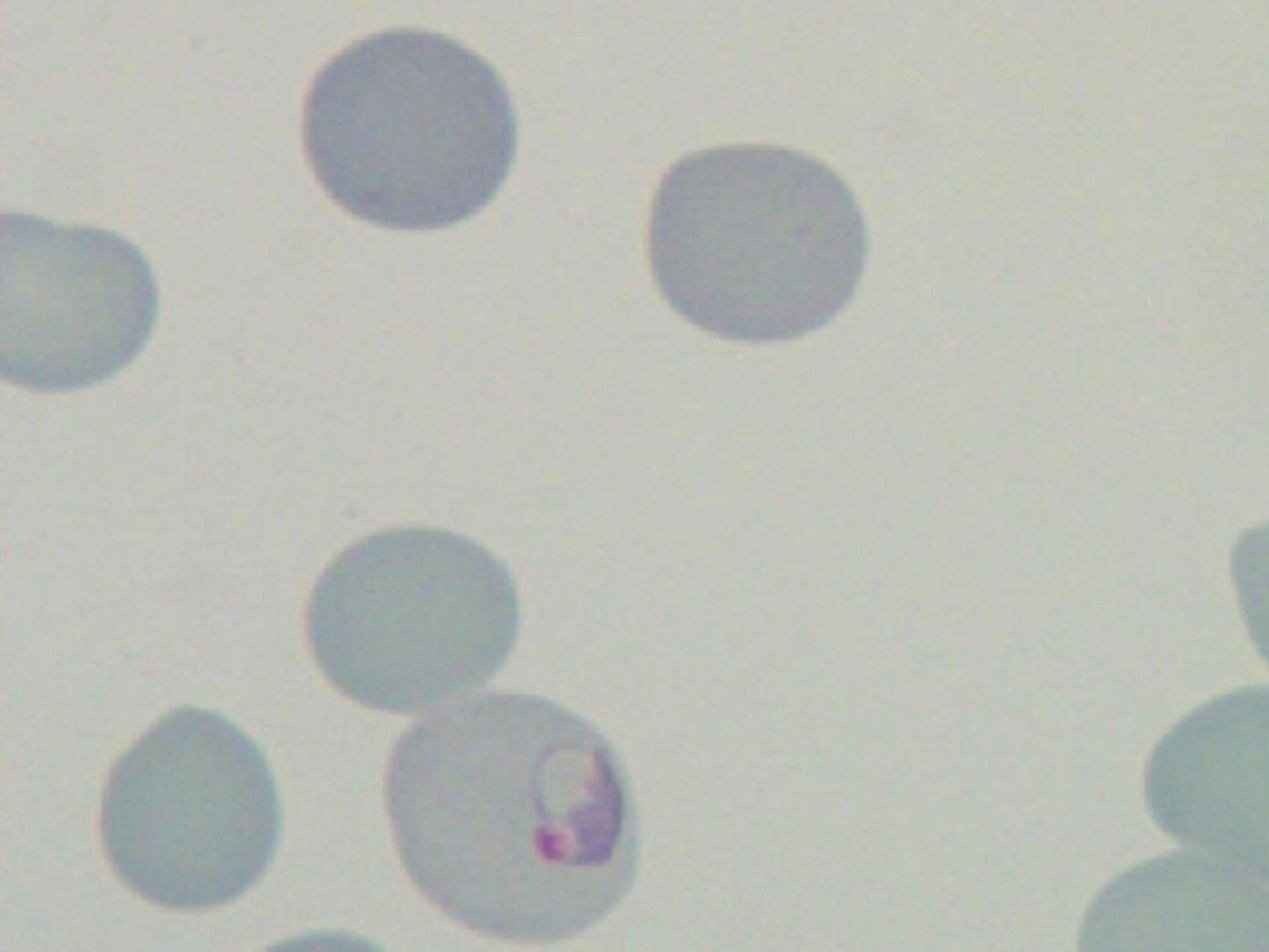Infected: (630, 10, 883, 257)
Uninfected: (751, 232, 966, 426), (401, 611, 614, 805), (753, 719, 959, 918), (985, 38, 1168, 247), (1115, 560, 1269, 745)
